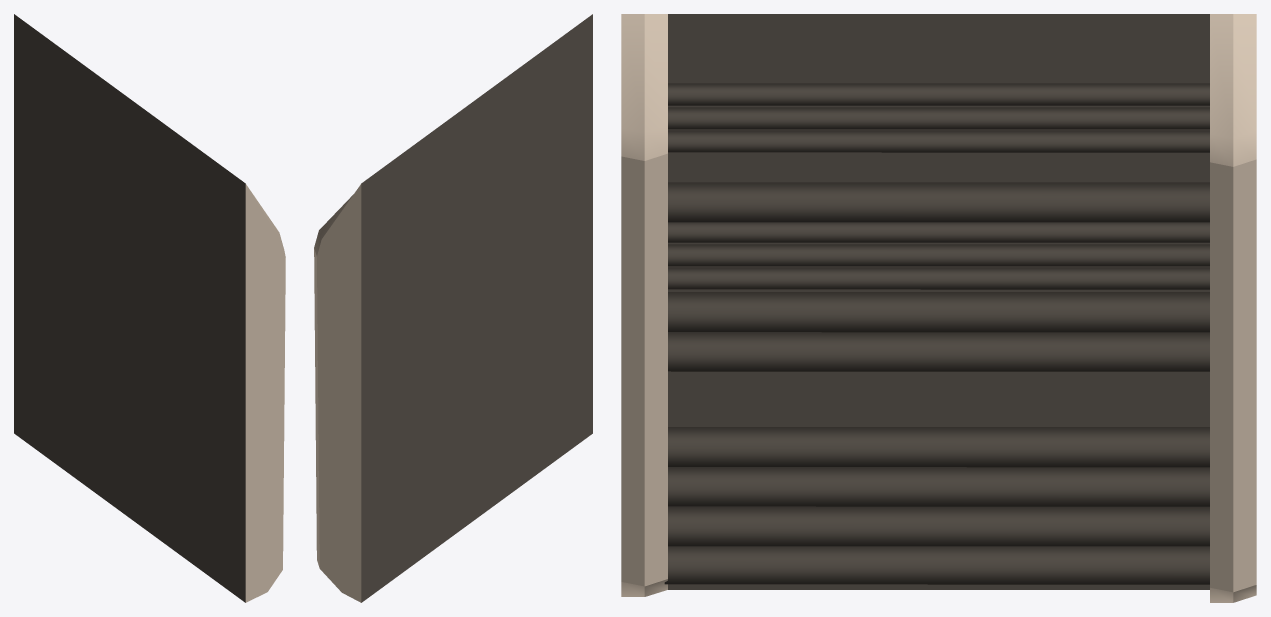
The model's file is Module_Ss_wall_1X_C1.FBX.
3 views of the same model, side by side, from view 1: azimuth 30°, elevation 25°; view 2: azimuth 150°, elevation 25°; view 3: azimuth 270°, elevation 25° (orthographic). The views are drawn at different scales.
Parts seen in each view (by area): view 1: Module_Ss_wall_1X_A003; view 2: Module_Ss_wall_1X_A003; view 3: Module_Ss_wall_1X_A003.
Boxes of the visible parts, x1=… form: Module_Ss_wall_1X_A003: x1=14, y1=14, x2=285, y2=602; Module_Ss_wall_1X_A003: x1=314, y1=14, x2=592, y2=602; Module_Ss_wall_1X_A003: x1=621, y1=14, x2=1256, y2=602.
Size of the model in its own units: 5.49 by 39.37 by 39.37.
